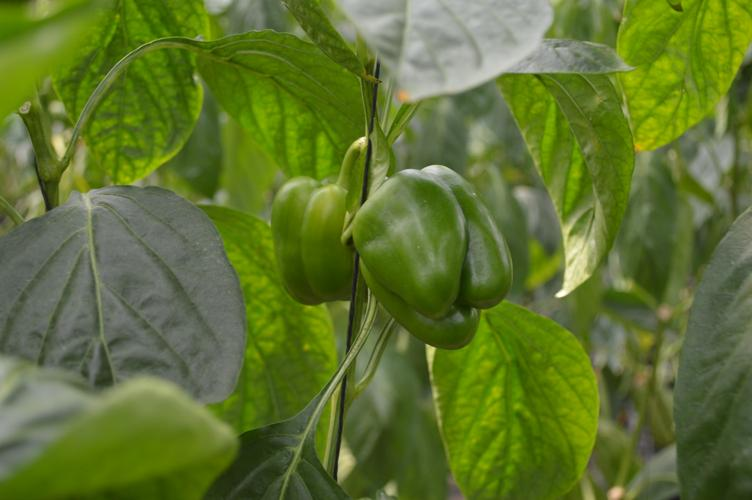BellPepper: (350, 164, 516, 349), (267, 177, 355, 303)
